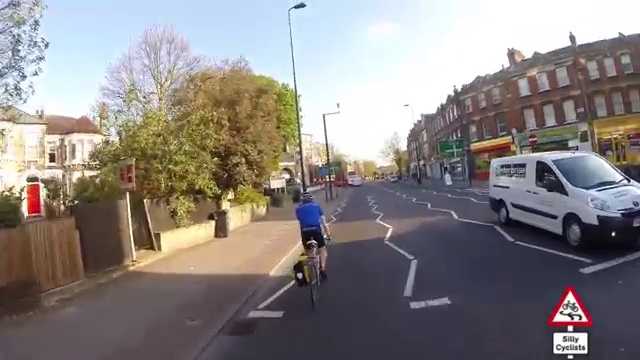cyclist_back: (291, 190, 333, 309)
